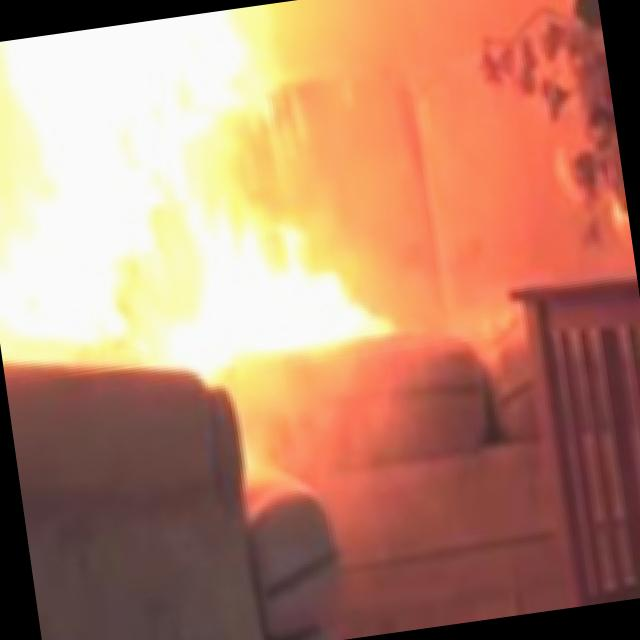fire: (0, 0, 380, 446)
